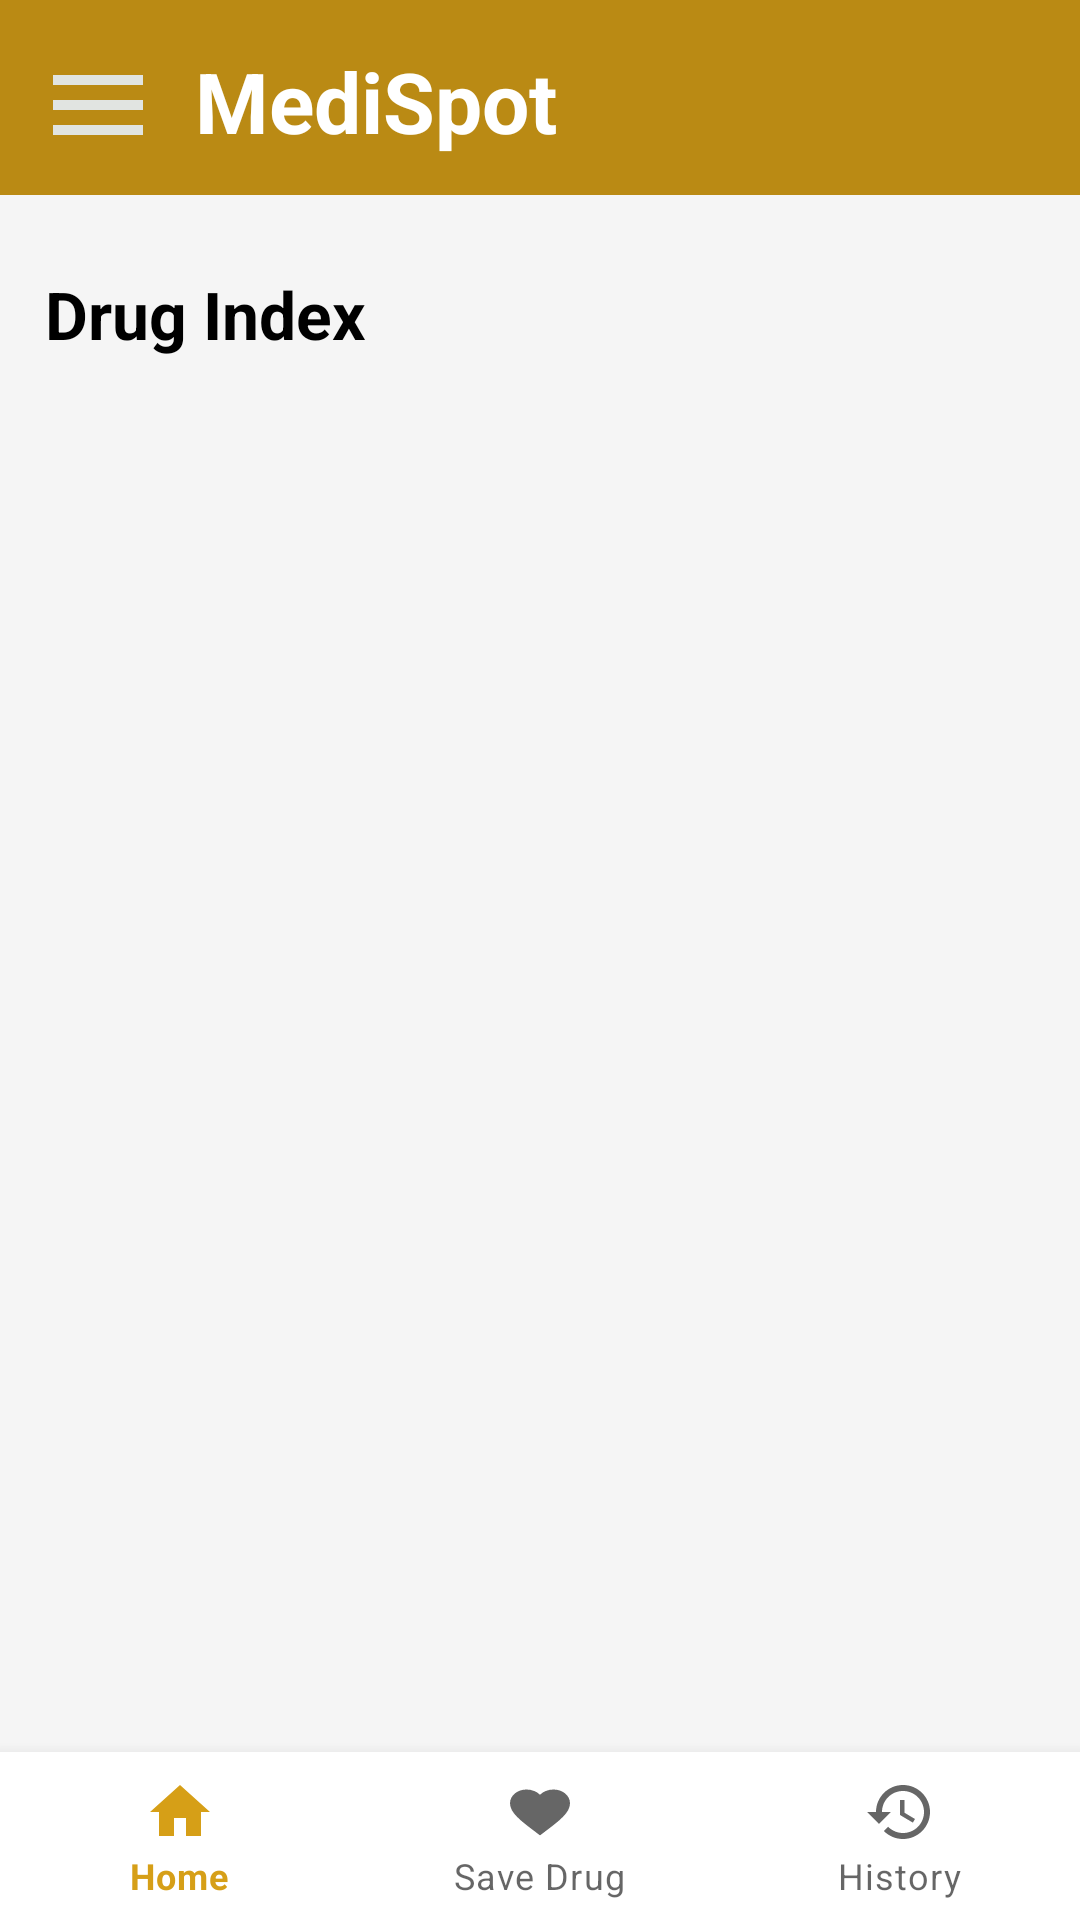

Icon click points for this 1080*1920 phone screenshot, format (x,y):
menu: (98,105)
